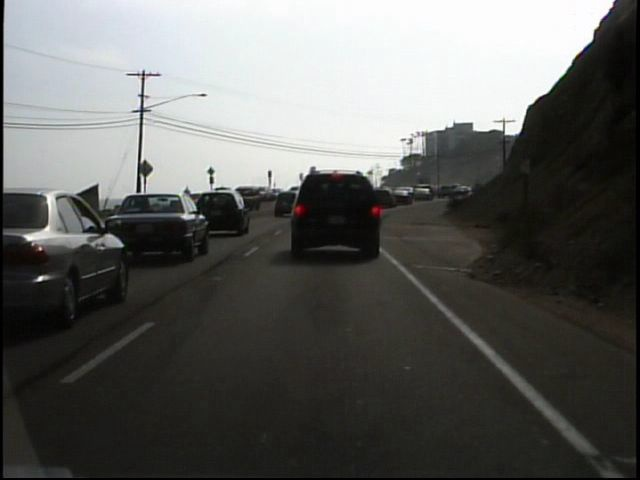person: (182, 183, 195, 210)
